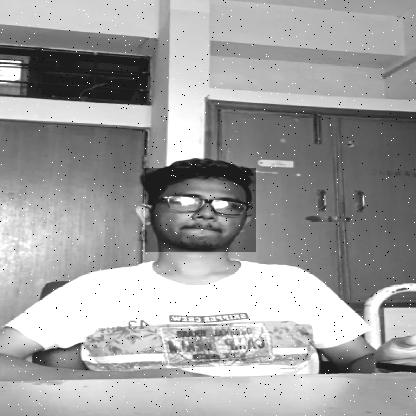Normal: (145, 168, 256, 252)
